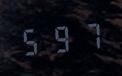five: (18, 23, 45, 57)
nine: (47, 21, 74, 54)
seven: (75, 18, 102, 52)
